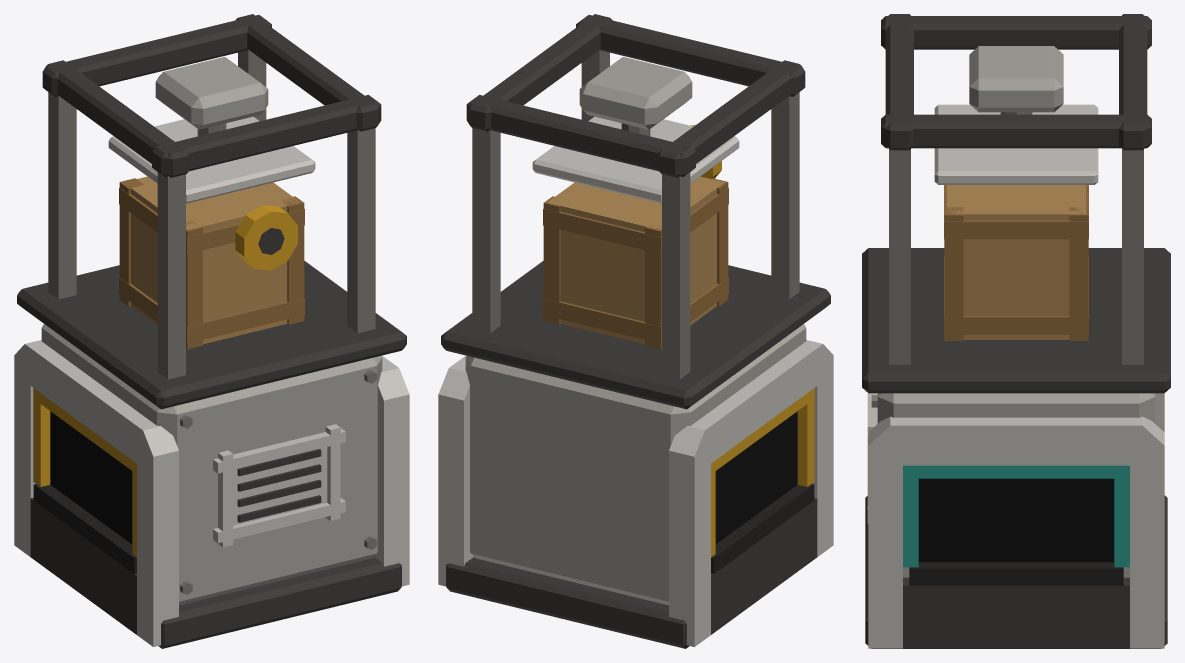
The model's file is packer.fbx.
The picture shows the model from 3 angles, left to right: view 1: azimuth 30°, elevation 25°; view 2: azimuth 150°, elevation 25°; view 3: azimuth 270°, elevation 25°; orthographic projection. The views are drawn at different scales.
Parts seen in each view (by area): view 1: packer; view 2: packer; view 3: packer.
Boxes of the visible parts, x1,y1,x2,y2 form: packer: (14, 14, 409, 648); packer: (438, 14, 833, 648); packer: (862, 14, 1170, 648).
Size of the model in its own units: 3 by 5.52 by 2.94.
